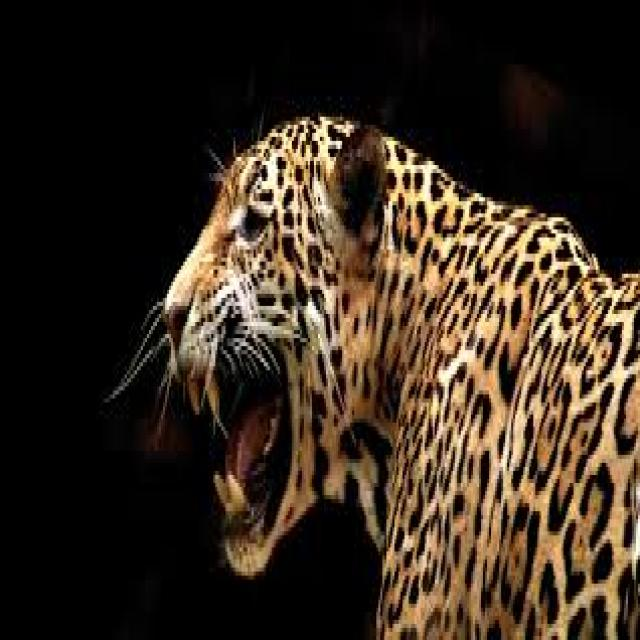Jaguar: (159, 112, 640, 640)
